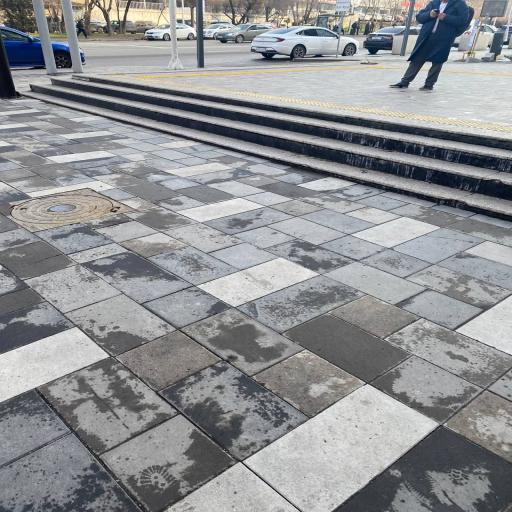bicycle: (318, 14, 350, 34)
book: (250, 25, 360, 59)
crosswalk: (389, 0, 472, 90)
laptop: (25, 75, 512, 220)
